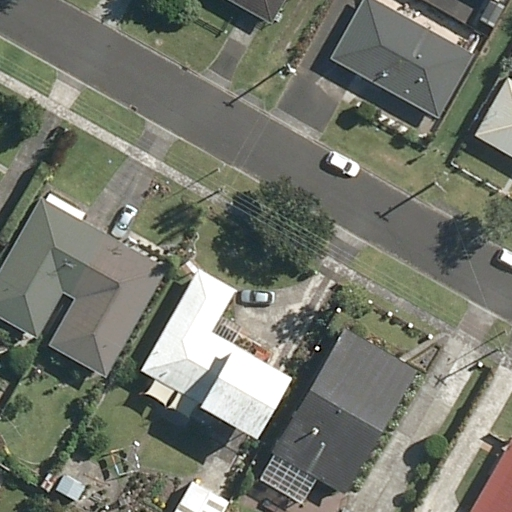DT: (425, 172, 448, 201), (207, 180, 234, 204), (490, 337, 510, 363)
